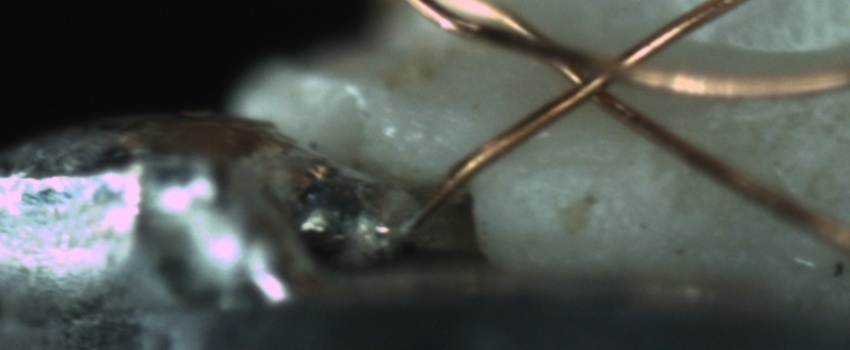CL: (554, 46, 636, 120)
DL: (500, 141, 616, 192)
